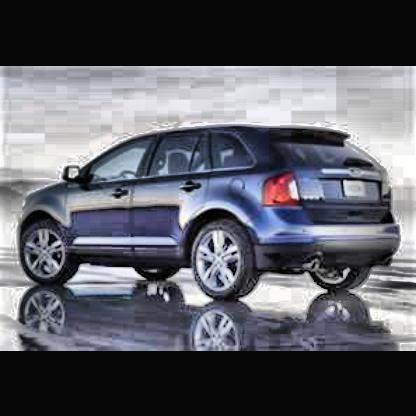Ford Edge SUV 2012: (22, 127, 402, 304)
